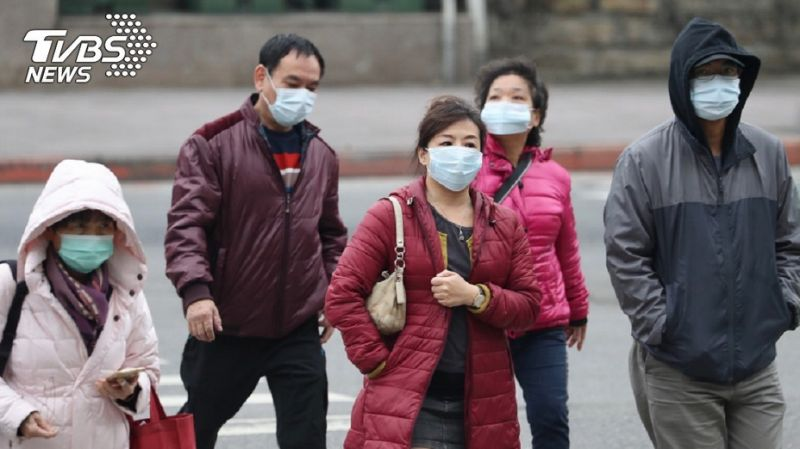mask: (417, 142, 488, 193), (256, 79, 320, 128), (684, 76, 747, 123), (51, 234, 117, 272), (480, 97, 539, 135)
